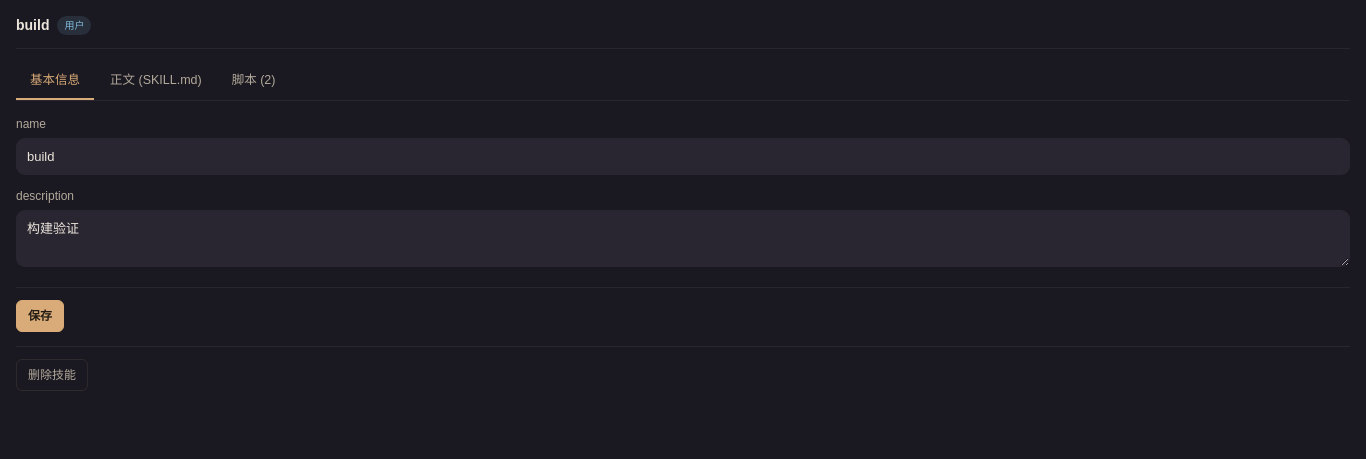
Test: SkillEditor › 选中脚本加载内容
Click the button "脚本 (2)".
click(254, 81)  # box [218,63,290,100]
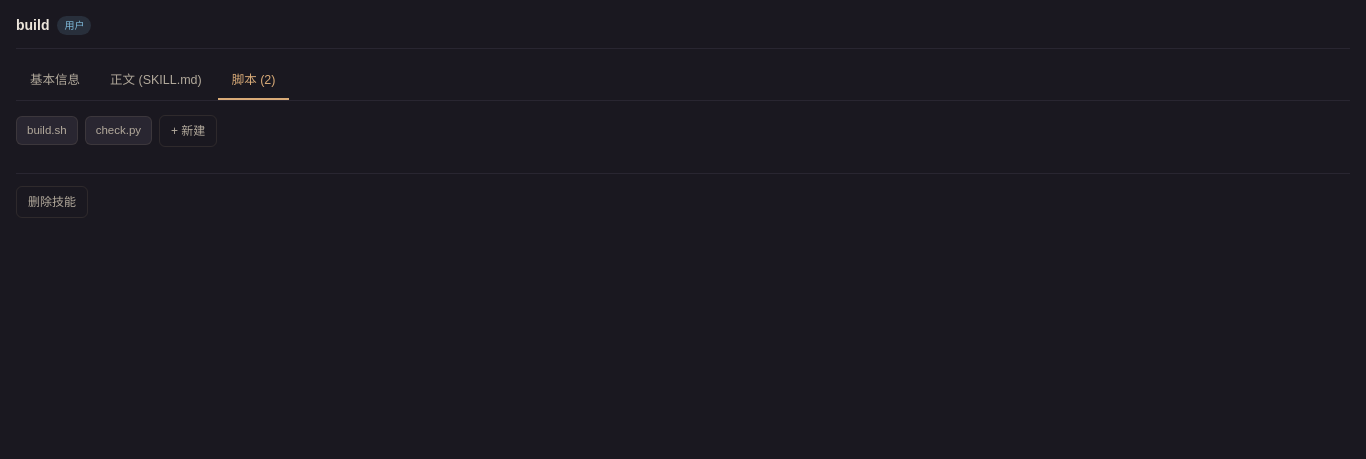
Click the text "build.sh".
click(47, 131)  # box [16,116,78,145]
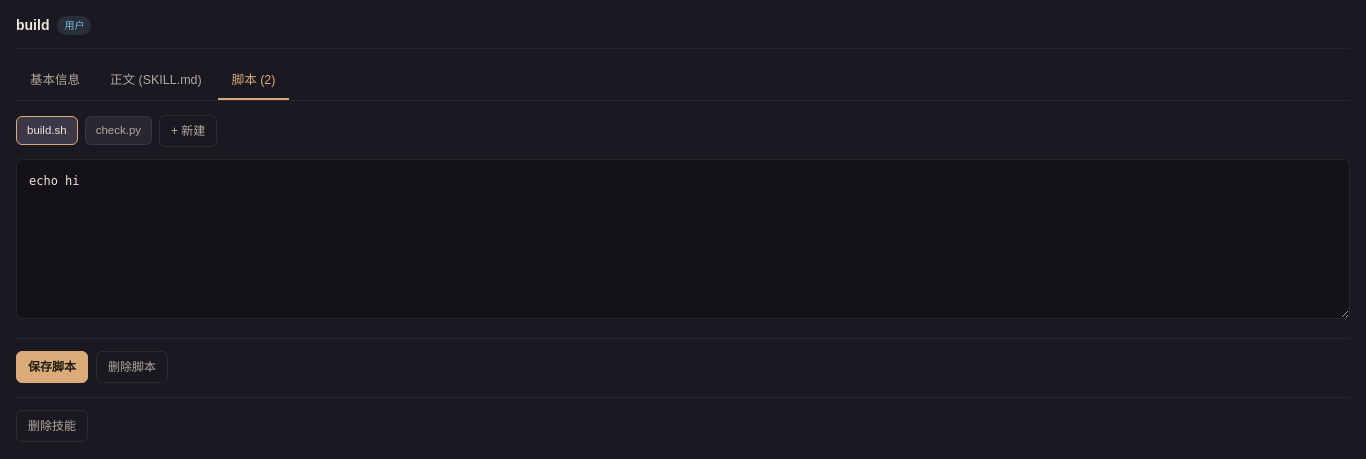
expect the text box is shown: met, box [16,159,1350,319]
